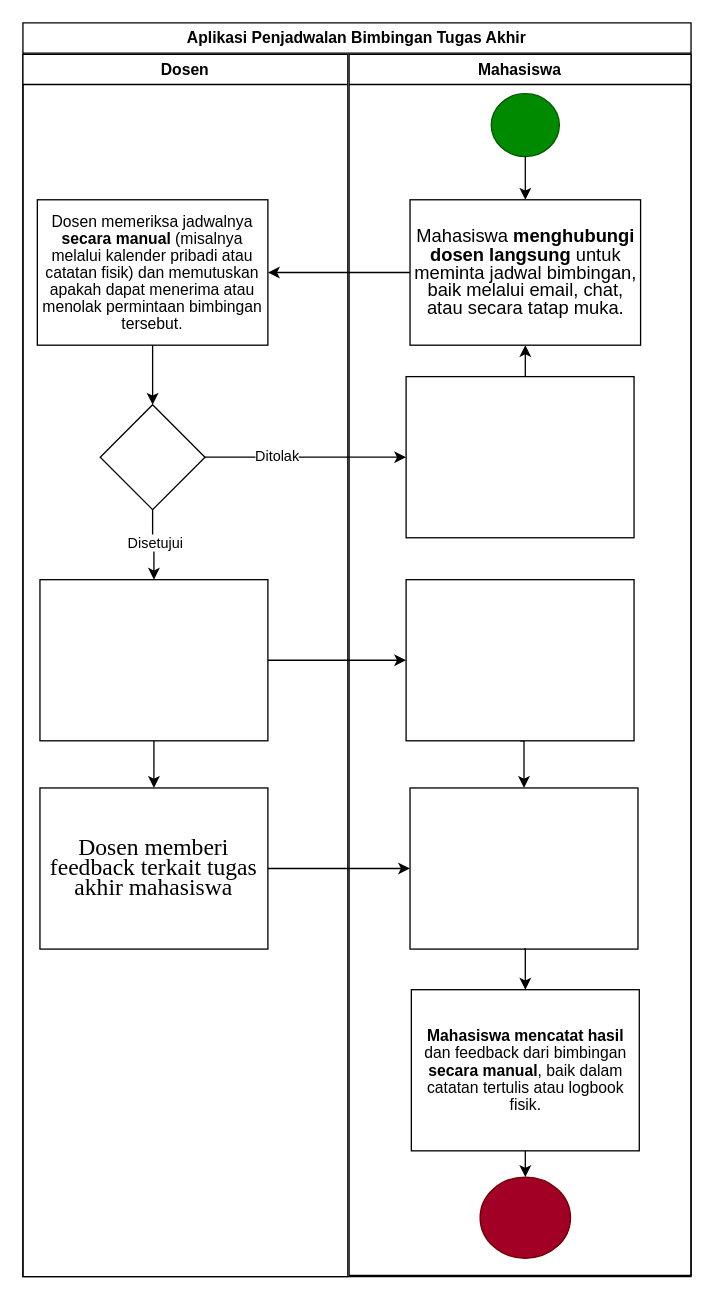
This 714x1300 diagram has some shape labels left out. The centre of each missing label's shape, as x and y in pixels:
Dosen memberikan bimbingan: (153,659)
Mahasiswa memilih jadwal lain: (519,456)
Mahasiswa mendapatkan bimbingan: (519,659)
Mahasiswa mendapatkan feedback dari dosen: (523,868)
